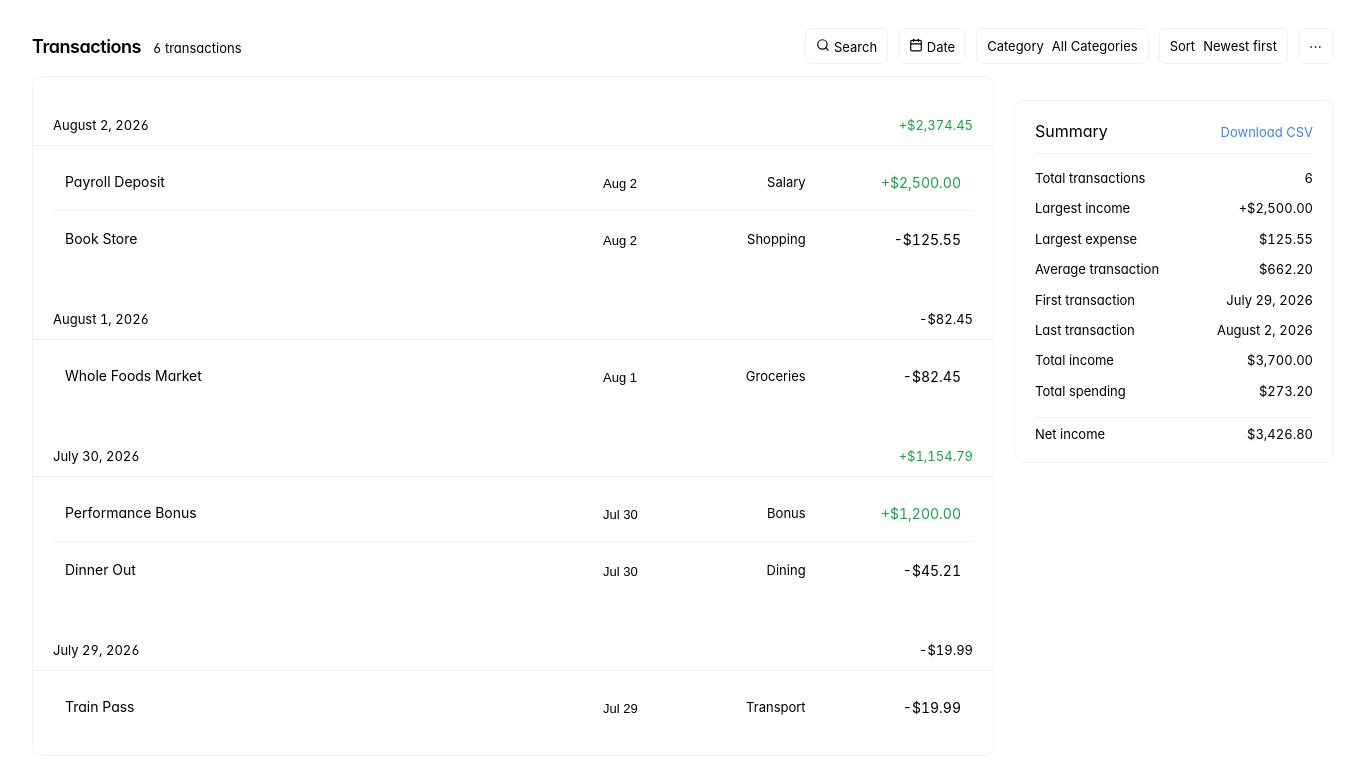
Test case: Transactions branch coverage › supports section toggles and filter-search empty states
The width and height of the screenshot is (1366, 768).
Expected: the text "Book Store" is shown, [65,230,137,246]
Click the button "Category All Categories".
click(1062, 46)  # box [976,28,1149,64]
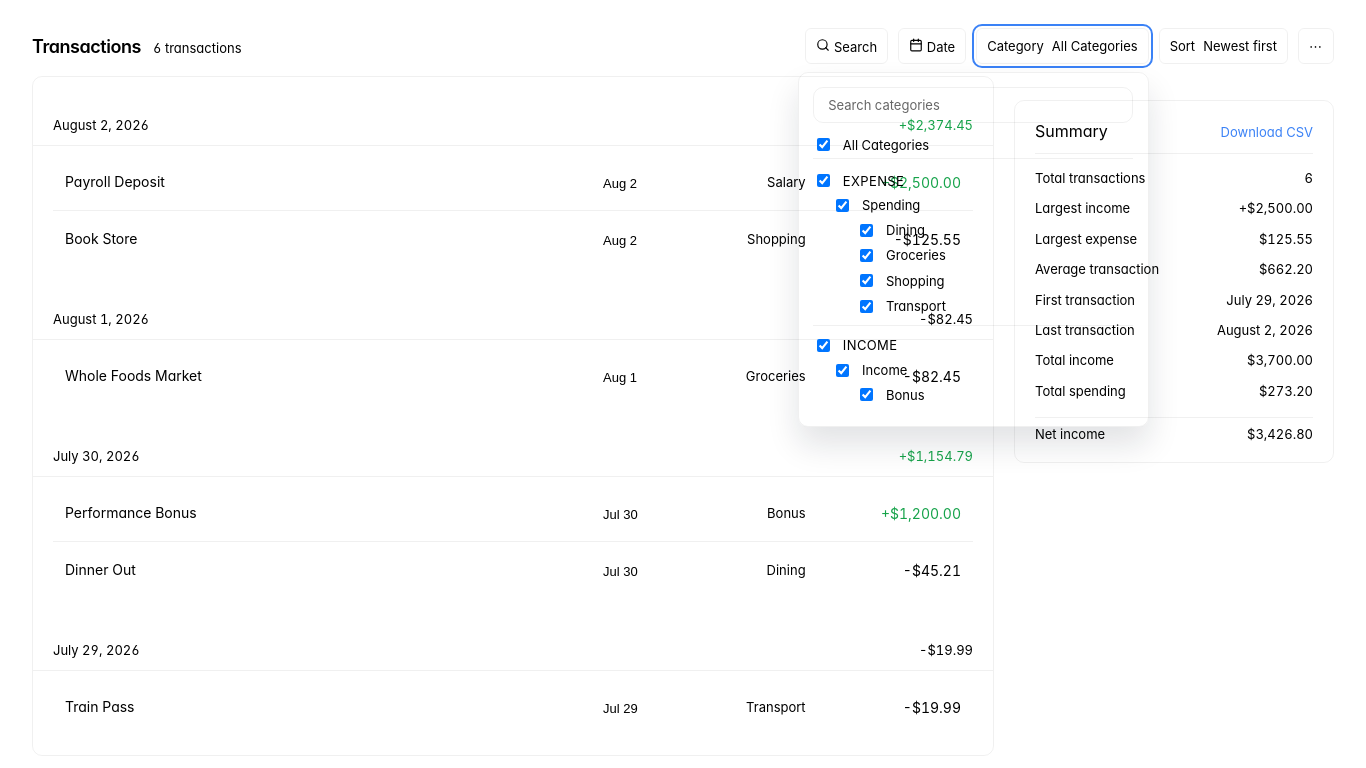
Click the checkbox labelled "Expense".
click(824, 181)  # box [817,174,830,187]
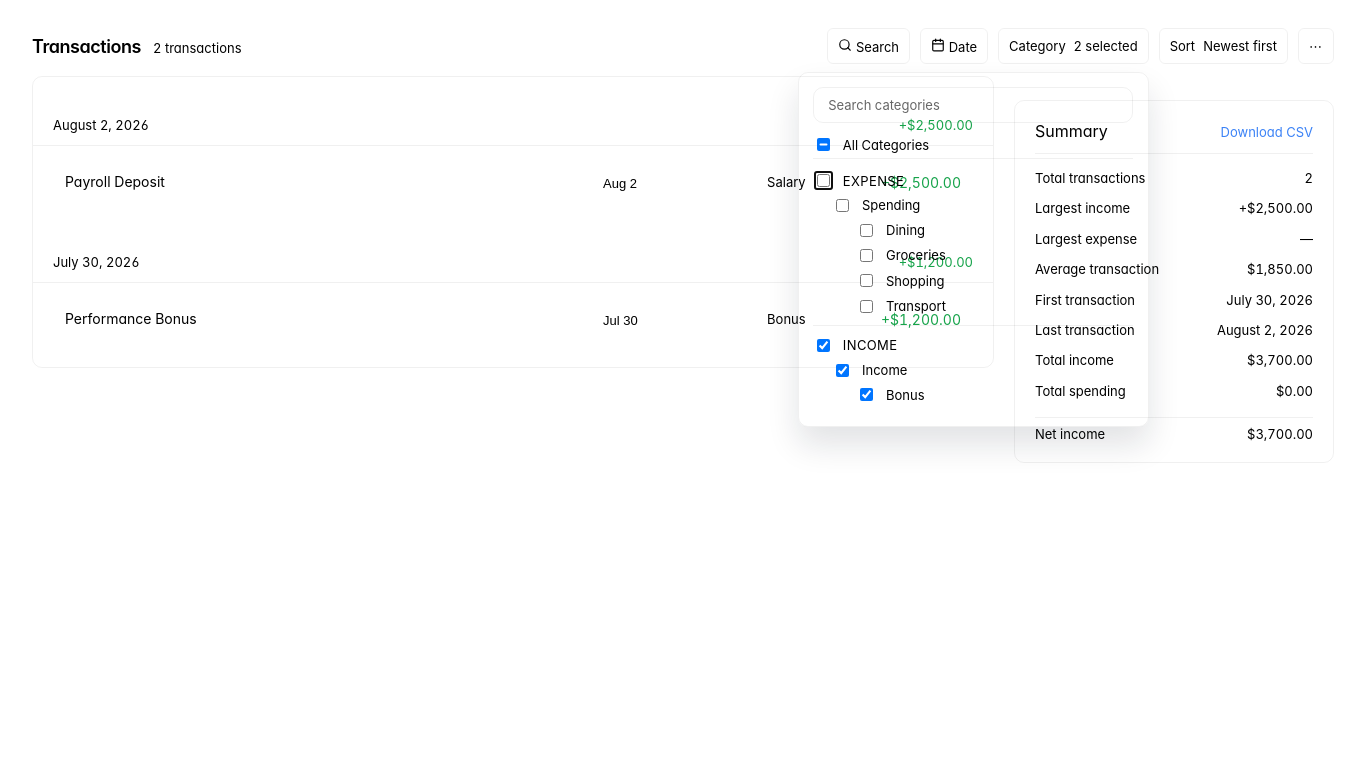
Expected: the text "Payroll Deposit" is shown, [65,172,165,190]
Expected: the text "Book Store" is gone
Expected: the button "2 selected" is shown, [1074,38,1138,54]
Type "zzz" into the search field labelled "Search categories".
click(973, 105); type("zzz")  # box [813,87,1133,123]
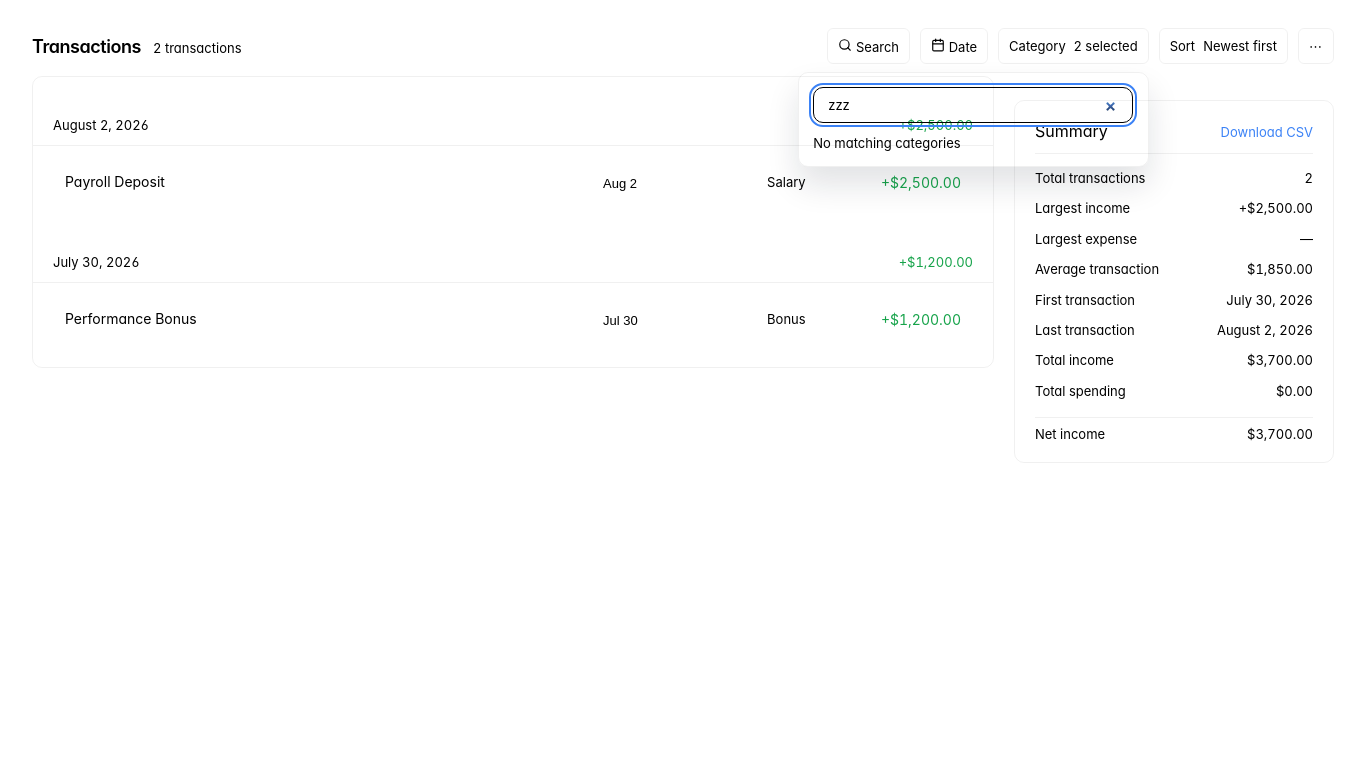
Expected: the text "No matching categories" is shown, [813,135,961,151]
Expected: the text labelled "All Categories" is gone
